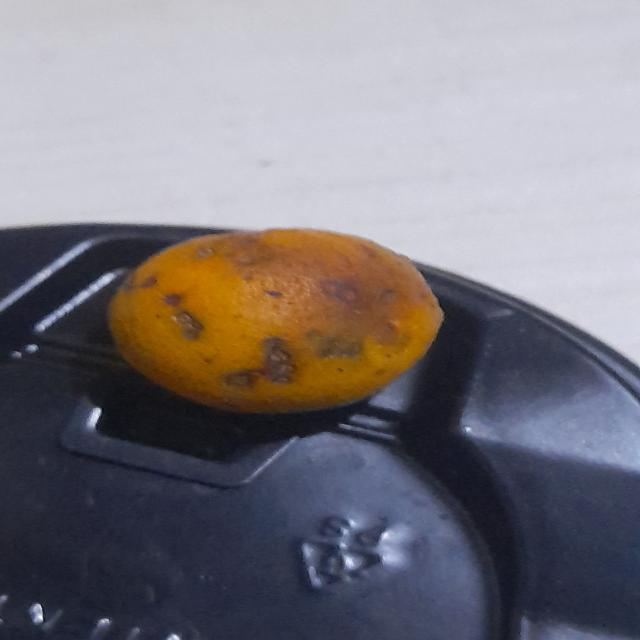black spot: (106, 226, 444, 417)
